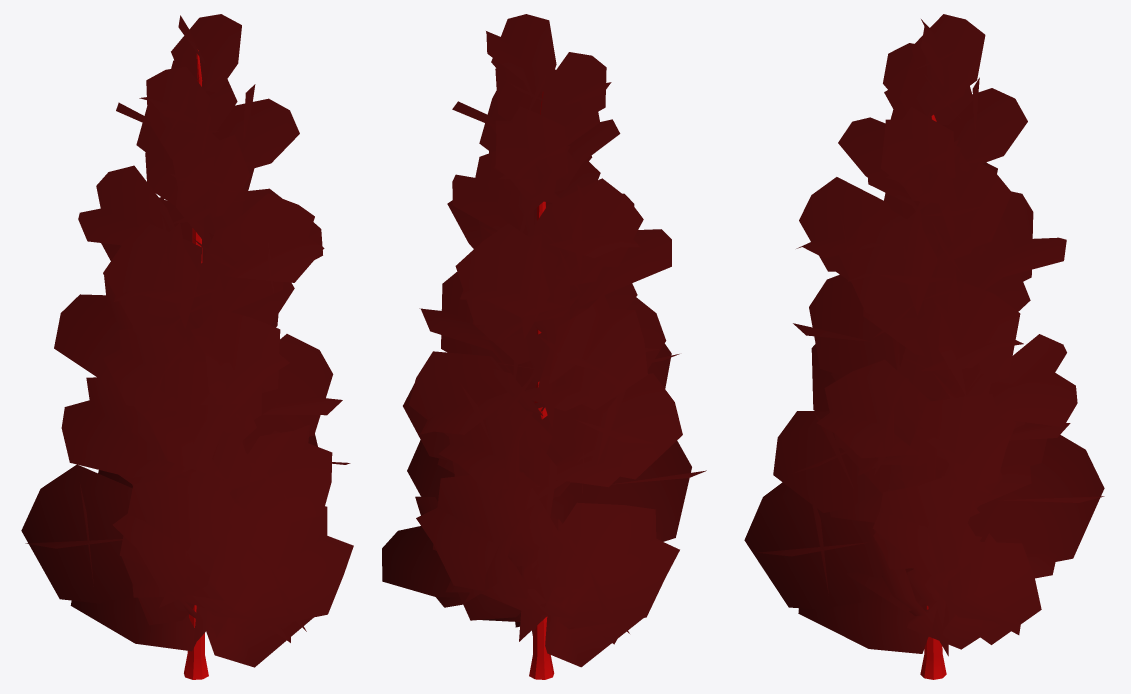
The model's file is SM_Tree_Birch_02.gltf.
3 views of the same model, side by side, from view 1: azimuth 30°, elevation 25°; view 2: azimuth 150°, elevation 25°; view 3: azimuth 270°, elevation 25° (orthographic).
Parts seen in each view (by area): view 1: SM_Tree_Birch_02; view 2: SM_Tree_Birch_02; view 3: SM_Tree_Birch_02.
Part boxes in pixels (left/top/right/bottom): SM_Tree_Birch_02: left=21, top=14, right=353, bottom=679; SM_Tree_Birch_02: left=382, top=14, right=706, bottom=679; SM_Tree_Birch_02: left=744, top=14, right=1104, bottom=679.
Bounding box in the file's own units: 2.5 × 5.4 × 2.79.
